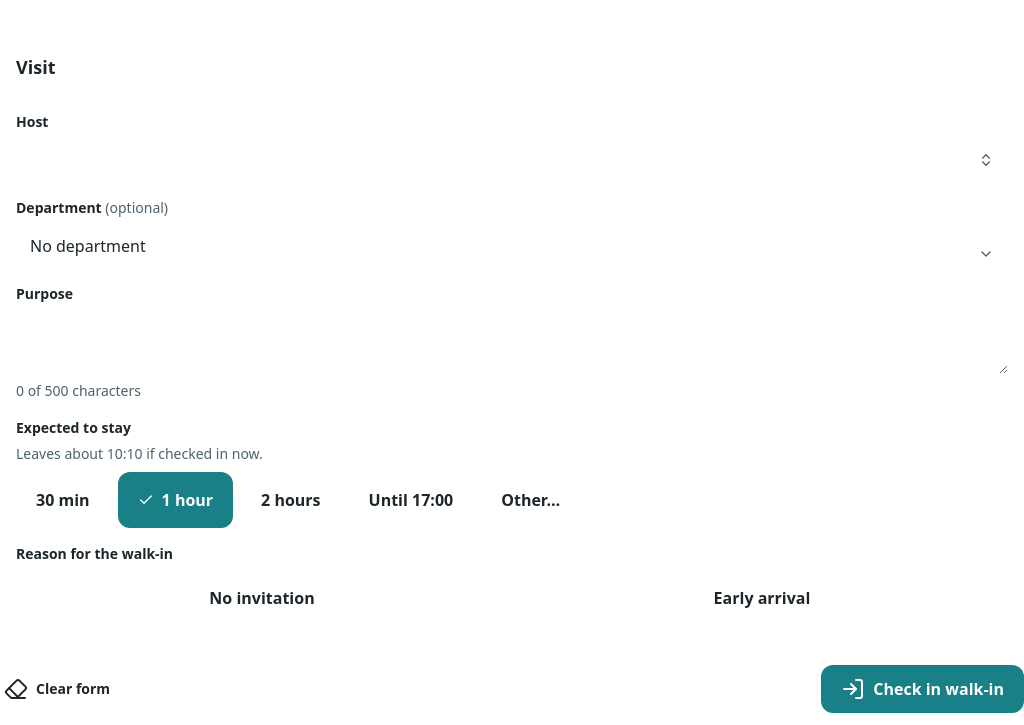
Scenario: Walk-in tab › keeps what was entered when reception switches to another tab and back
This screenshot has width=1024, height=725.
(page scrolled)
Type "Delivery for legal" into the text box labelled "Purpose".
click(512, 342); type("Delivery for legal")  # box x1=16 y1=310 x2=1008 y2=374
(page scrolled)
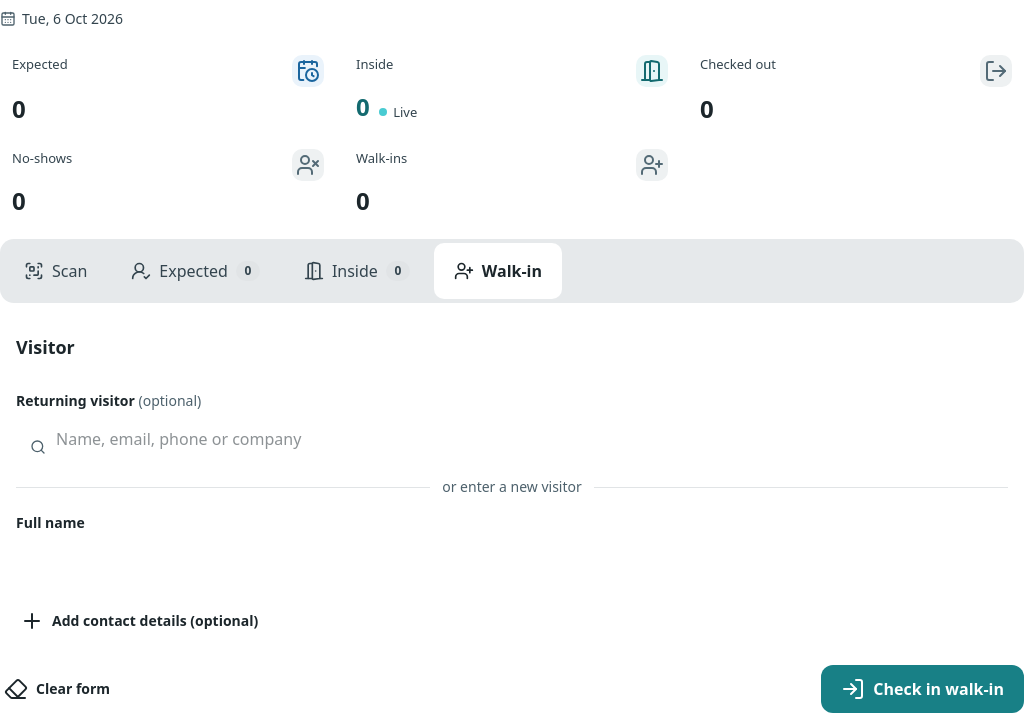
Click the tab "Scan".
click(56, 271)  # box x1=4 y1=243 x2=107 y2=299
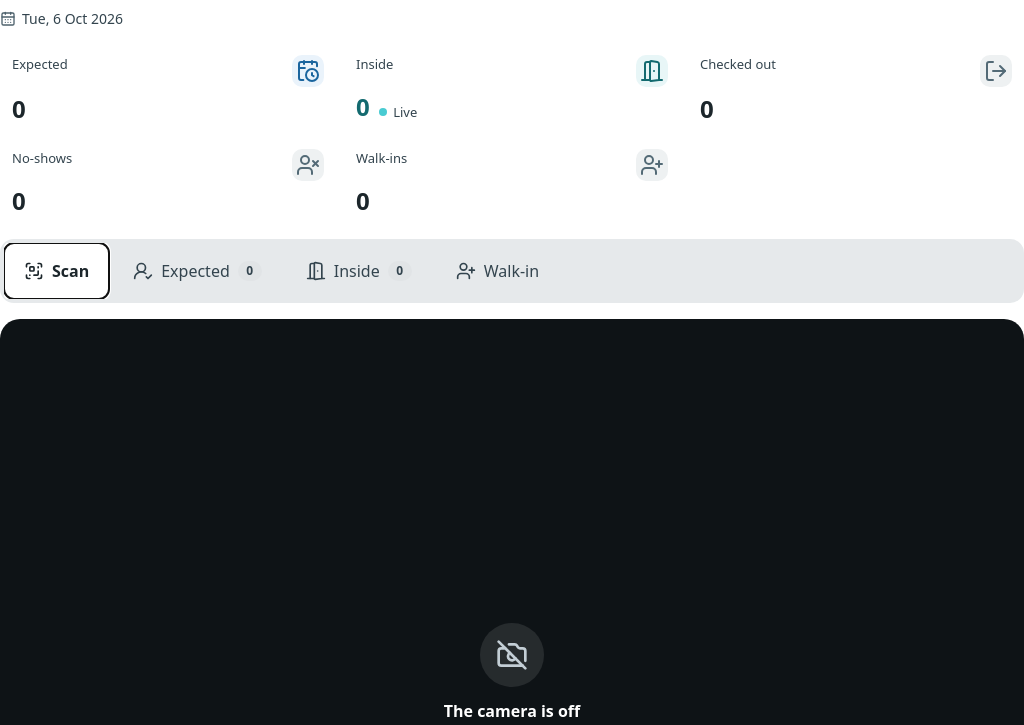
Click the tab "Walk-in".
click(497, 271)  # box x1=436 y1=243 x2=559 y2=299
(page scrolled)
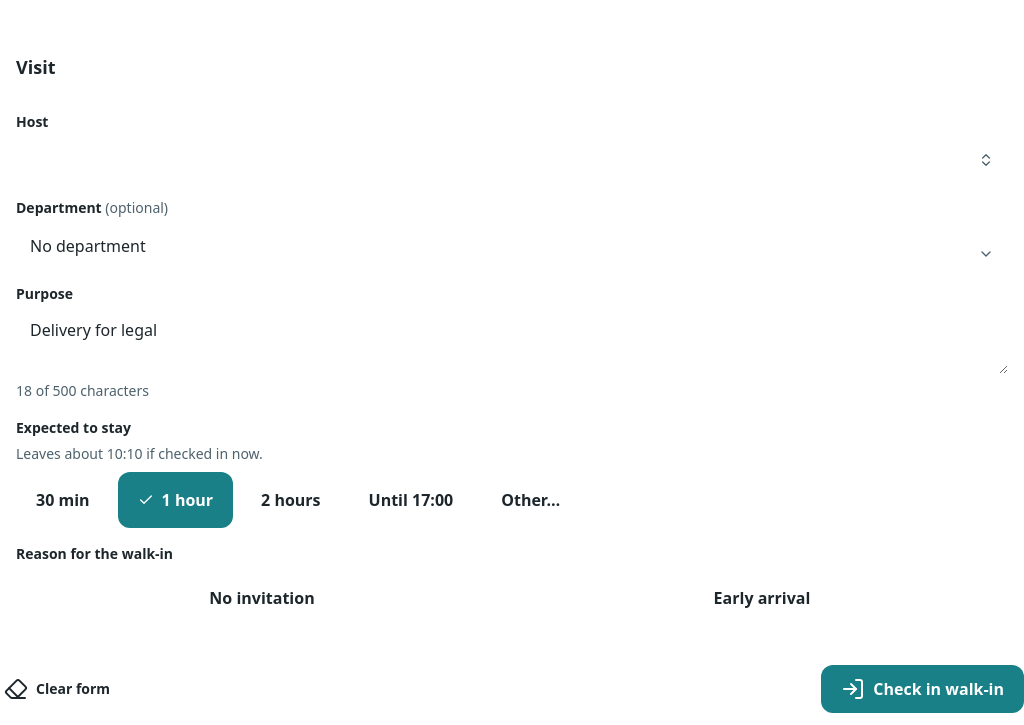
Result: the text box labelled "Purpose" holds "Delivery for legal" at x1=16 y1=310 x2=1008 y2=374
